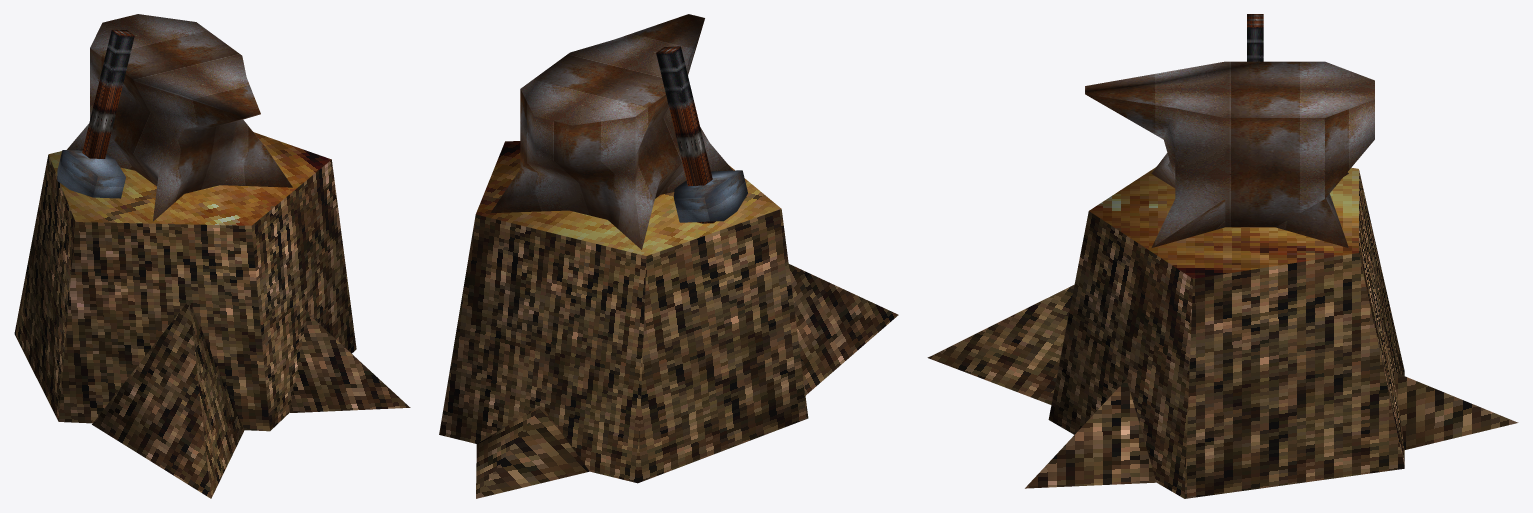
File: ANVIL2_ACTORDEF.fbx
3 views of the same model, side by side, from view 1: azimuth 30°, elevation 25°; view 2: azimuth 150°, elevation 25°; view 3: azimuth 270°, elevation 25° (orthographic). The views are drawn at different scales.
Parts seen in each view (by area): view 1: U3DMesh; view 2: U3DMesh; view 3: U3DMesh.
Boxes of the visible parts, x1,y1,x2,y2 form: U3DMesh: [14, 14, 410, 498]; U3DMesh: [439, 14, 898, 498]; U3DMesh: [927, 14, 1518, 498].
Size of the model in its own units: 4.2 by 4.65 by 6.63.
